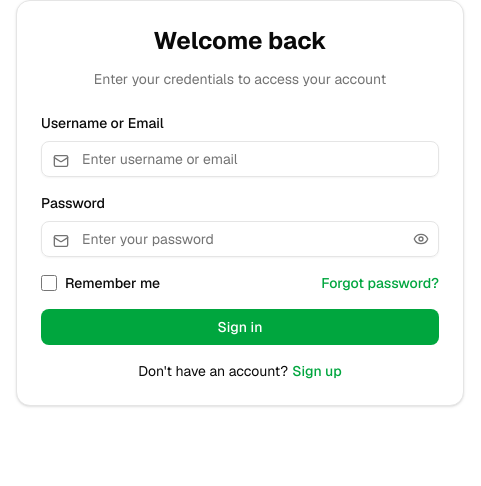
Test: AuthForm Component › Login Form › displays error message on login failure
The width and height of the screenshot is (481, 486).
Step 1. Type "testuser" into the field labelled "Username or Email" → (240, 159), box [41,141,439,177]
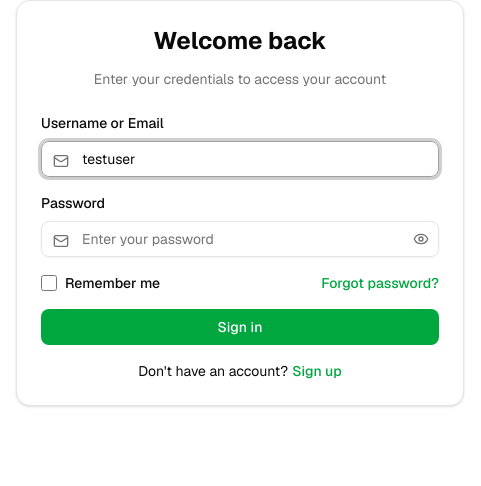
Step 2. Type "wrongpassword" into the password field labelled "Password" → (240, 239), box [41,221,439,257]
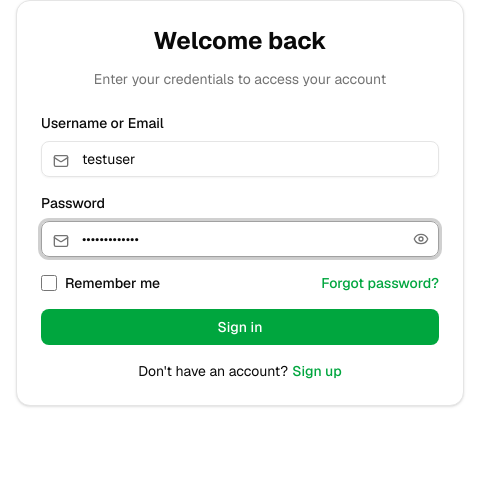
Step 3. Click the button "Sign in" → (240, 327), box [41,309,439,345]
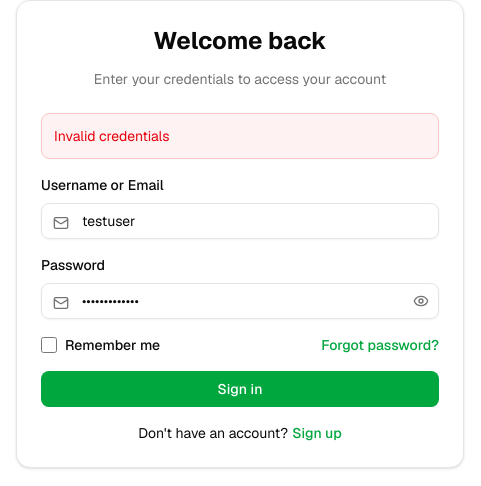
Check: the text "Invalid credentials" is shown, box [41,113,439,159]
